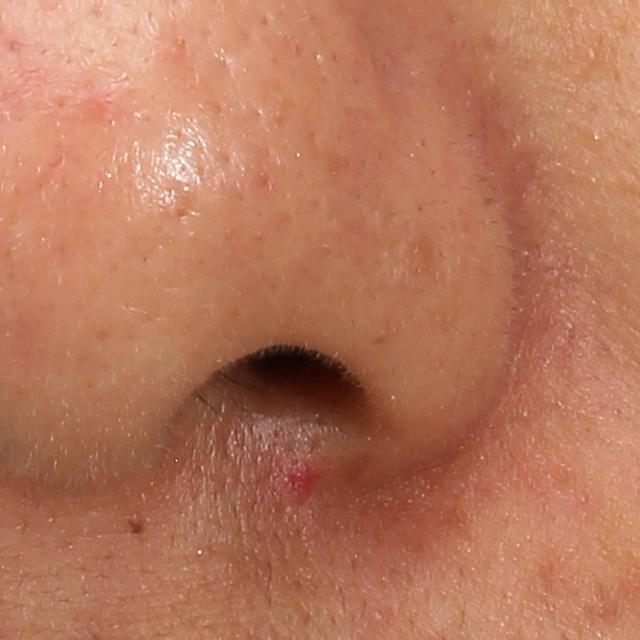comedo: (590, 130, 604, 145)
nevus: (124, 515, 148, 539)
papule: (277, 458, 319, 498)
